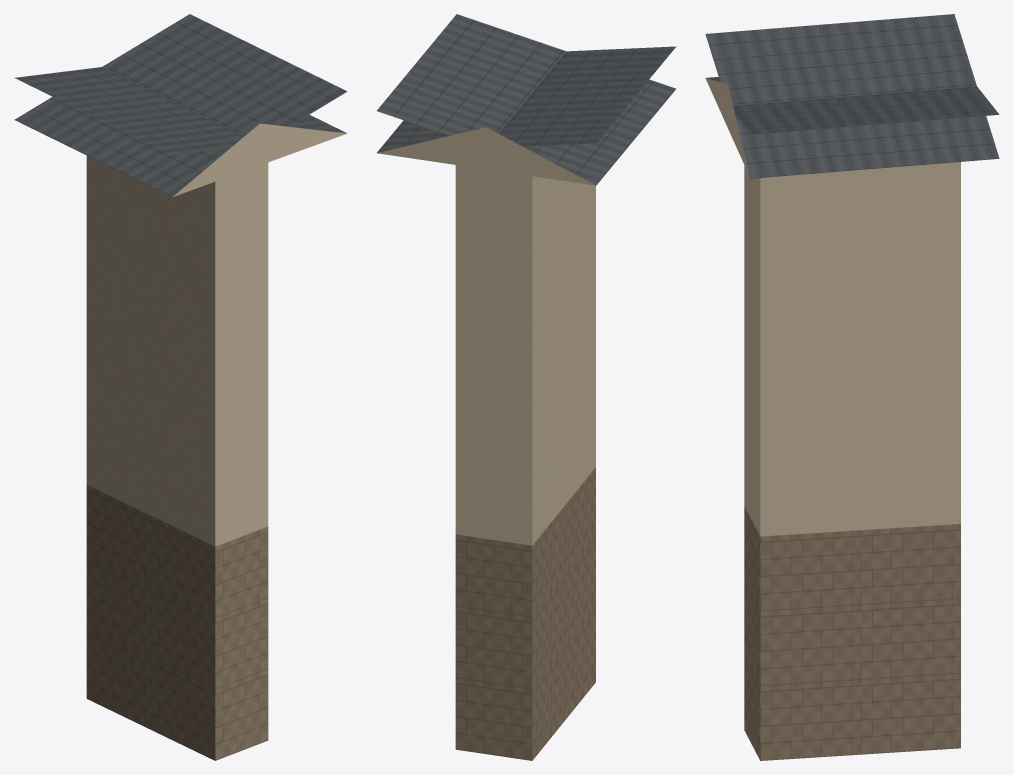
File: bld_c36_-28_446.gltf
The picture shows the model from 3 angles, left to right: view 1: azimuth 30°, elevation 25°; view 2: azimuth 150°, elevation 25°; view 3: azimuth 270°, elevation 25°; orthographic projection. The views are drawn at different scales.
Visible parts, largest first — view 1: bld_c36_-28_446; view 2: bld_c36_-28_446; view 3: bld_c36_-28_446.
Boxes of the visible parts, bbox=[...] form: bld_c36_-28_446: bbox=[14, 14, 347, 760]; bld_c36_-28_446: bbox=[377, 14, 676, 760]; bld_c36_-28_446: bbox=[705, 14, 999, 760].
Bounding box in the file's own units: 5.88 × 15.1 × 6.06.
4 materials, 4 textured.
